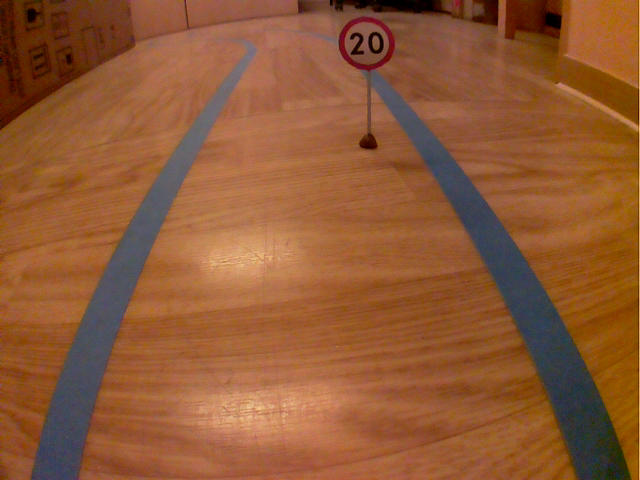Ograniczenie 20: (334, 12, 400, 74)
